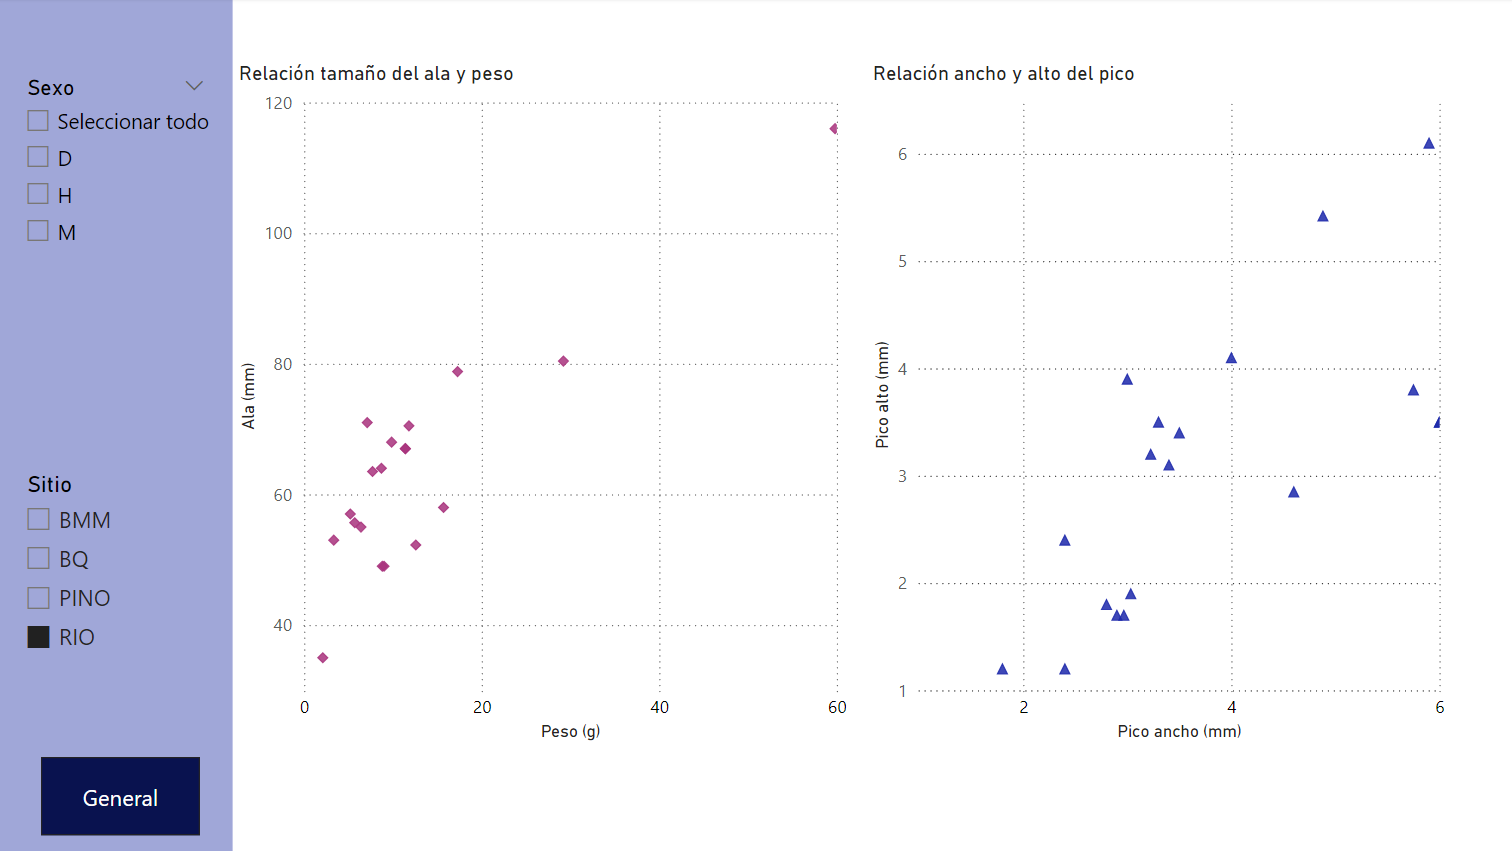

This screenshot's page, from the dashboard's own definition file:
{"tool":"powerbi","page":{"name":"Relaciones medidas","canvas":[1280,720],"ordinal":1},"visuals":[{"type":"shape","box":[0,0,196.3,719.8],"z":0},{"type":"scatterChart","title":"Relación tamaño  del ala y peso","fields":{"X":["Avg(datosaves3.pesogr)"],"Y":["Avg(datosaves3.alamm)"],"Category":["datosaves3.especie"]},"box":[196.1,52.8,522.1,577.6],"z":1000},{"type":"slicer","fields":{"Values":["datosaves3.sexo"]},"box":[10.5,60.2,174.1,171.5],"z":2000},{"type":"scatterChart","title":"Relación ancho y alto del pico","fields":{"X":["Avg(datosaves3.picoanchomm)"],"Y":["Avg(datosaves3.picoaltomm)"],"Category":["datosaves3.especie"]},"box":[730.7,52.8,491.6,577.6],"z":3000},{"type":"slicer","fields":{"Values":["datosaves3.site"]},"box":[10.5,393.9,158.4,204.2],"z":4000},{"type":"pageNavigator","box":[35,639.5,134.1,66.1],"z":5000}]}

Visuals, with their boxes on the page's 1280x720 design canvas (x1, y1, x2, y2). These are canvas units, not pixel positions in the 1512x851 screenshot, which may show the page scaled, cropped or inside an application window:
shape: (x1=0, y1=0, x2=196, y2=720)
"Relación tamaño  del ala y peso" scatterChart: (x1=196, y1=53, x2=718, y2=630)
slicer - datosaves3.sexo: (x1=10, y1=60, x2=185, y2=232)
"Relación ancho y alto del pico" scatterChart: (x1=731, y1=53, x2=1222, y2=630)
slicer - datosaves3.site: (x1=10, y1=394, x2=169, y2=598)
pageNavigator: (x1=35, y1=640, x2=169, y2=706)
